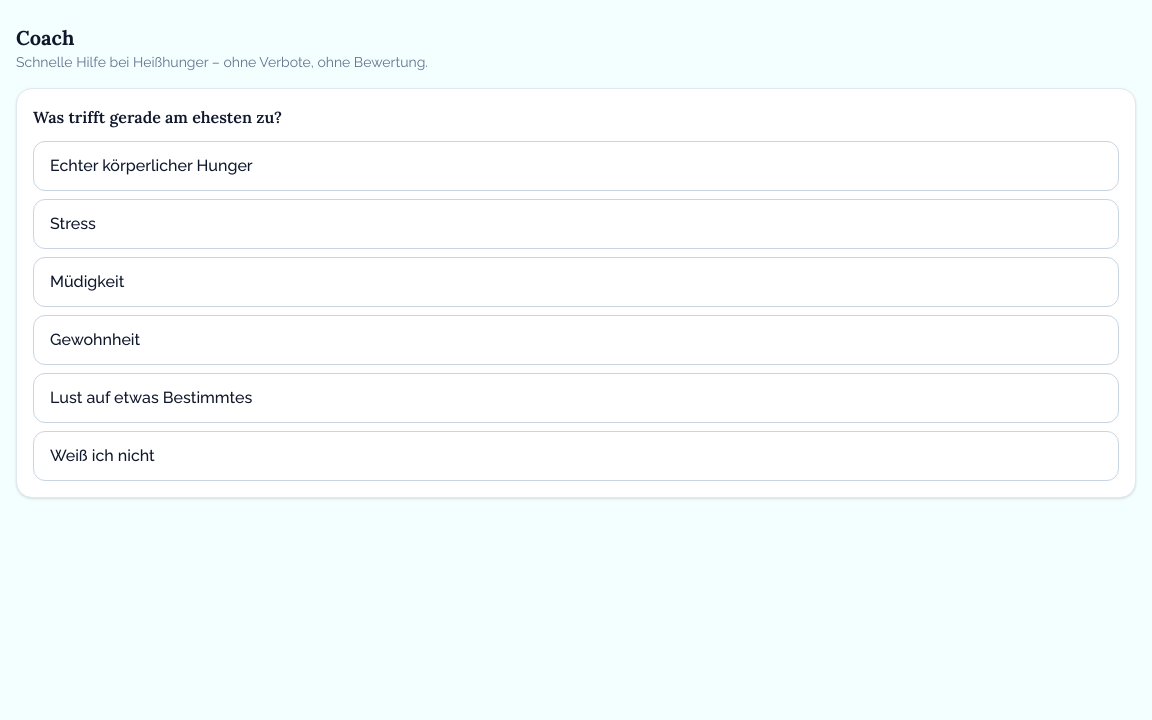
CoachPage (Heißhunger-Hilfe) › lässt sich zurücksetzen
Click the radio button labelled "Müdigkeit": (87, 282) [33,257,1119,307]
(page scrolled)
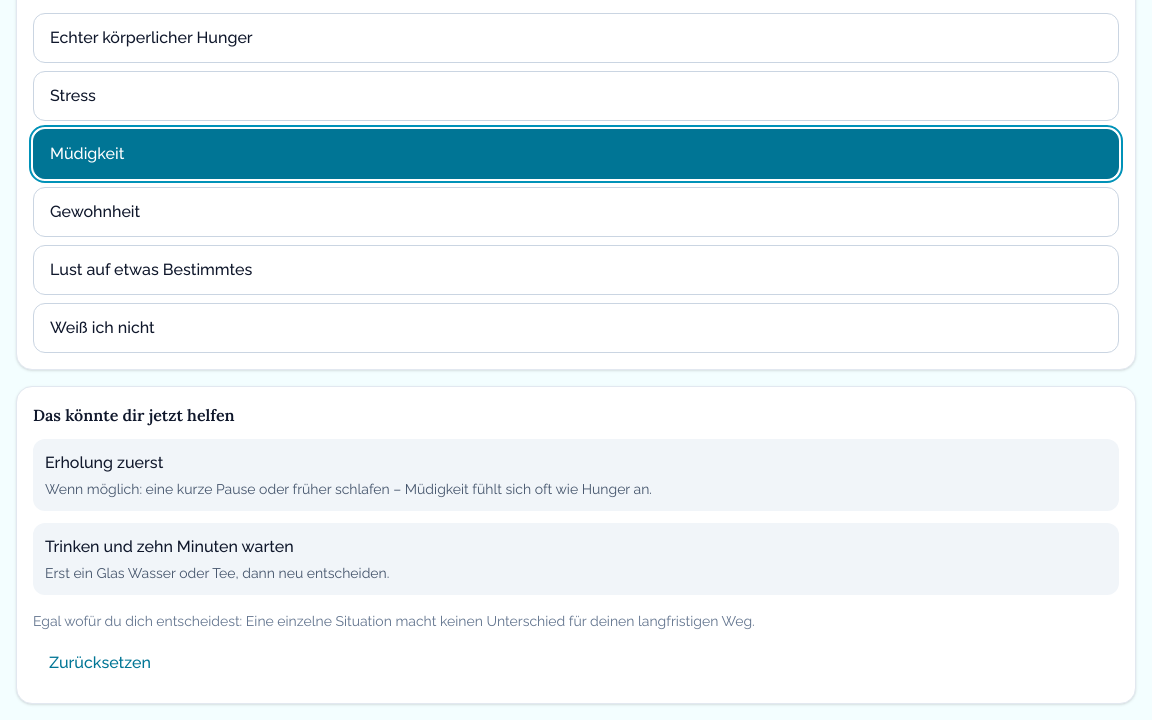
Click the button "Zurücksetzen": (100, 663) [33,639,167,687]
(page scrolled)
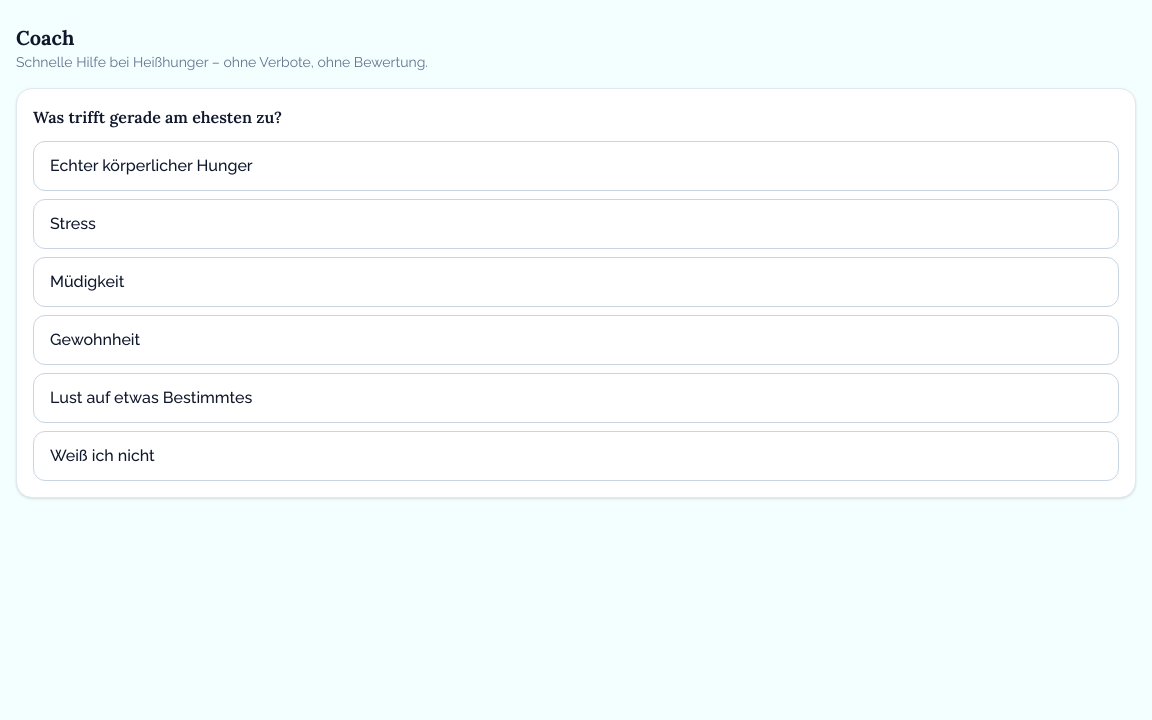
Now the element with test id "craving-options" is gone
